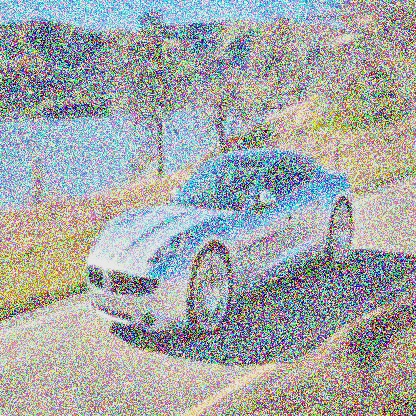Vehicle: (84, 145, 360, 342)
